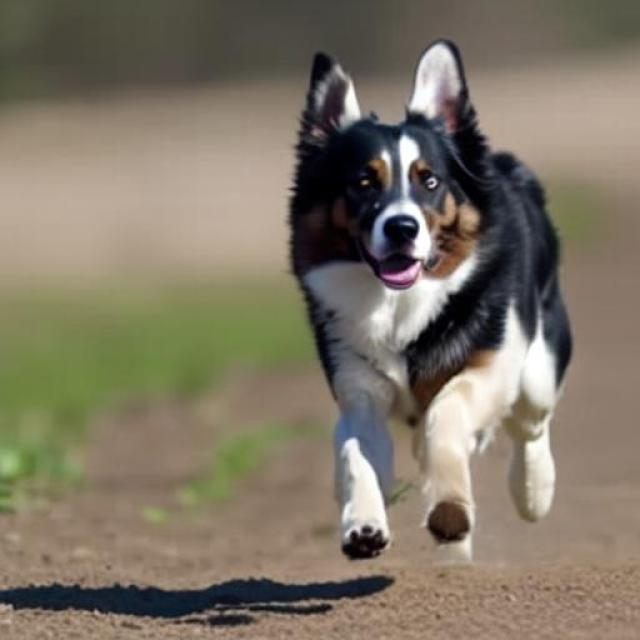Dog: (283, 39, 574, 562)
